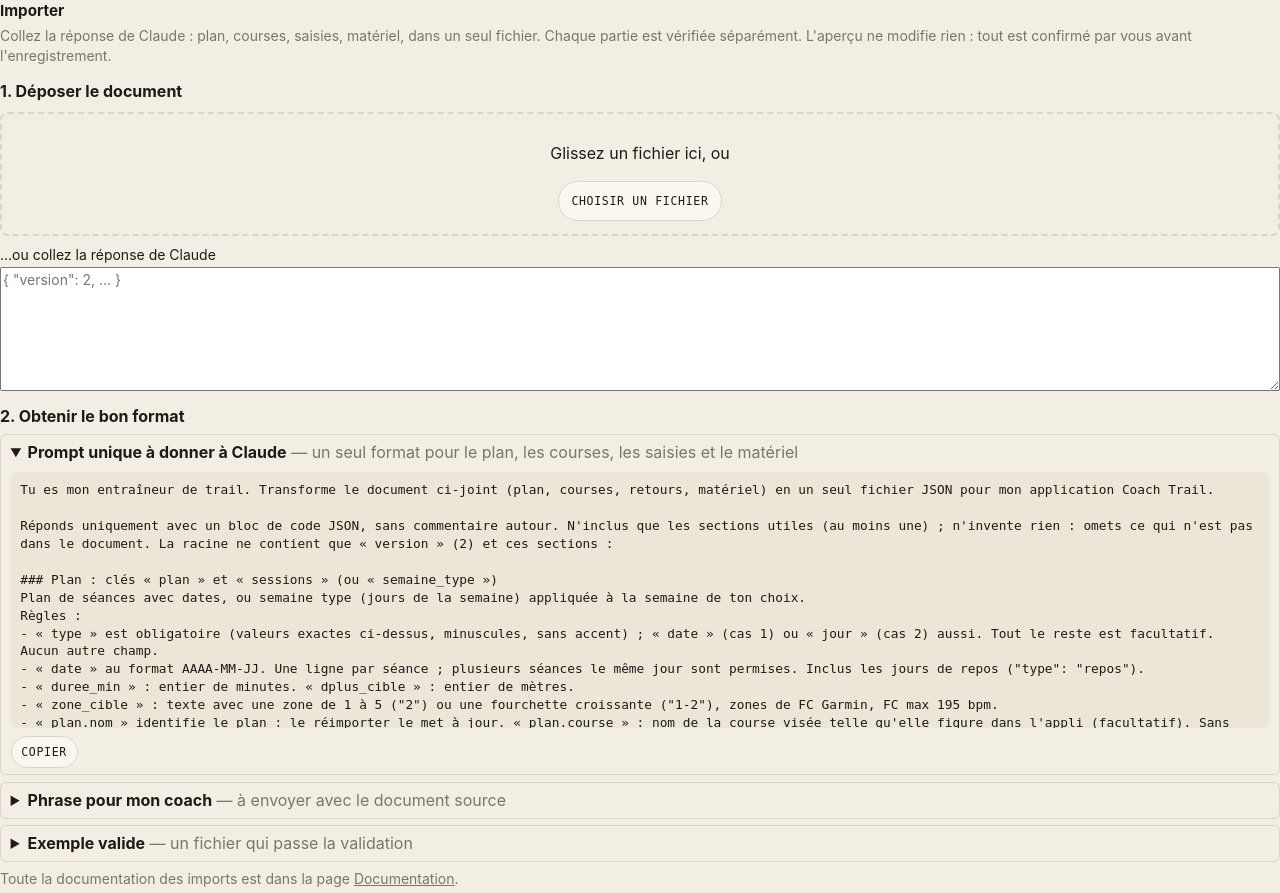
Test case: Page Importer › plan déjà à jour : rien à confirmer
Click the text box labelled "…ou collez la réponse de Claude". click: (640, 329)
box: [0,267,1279,391]
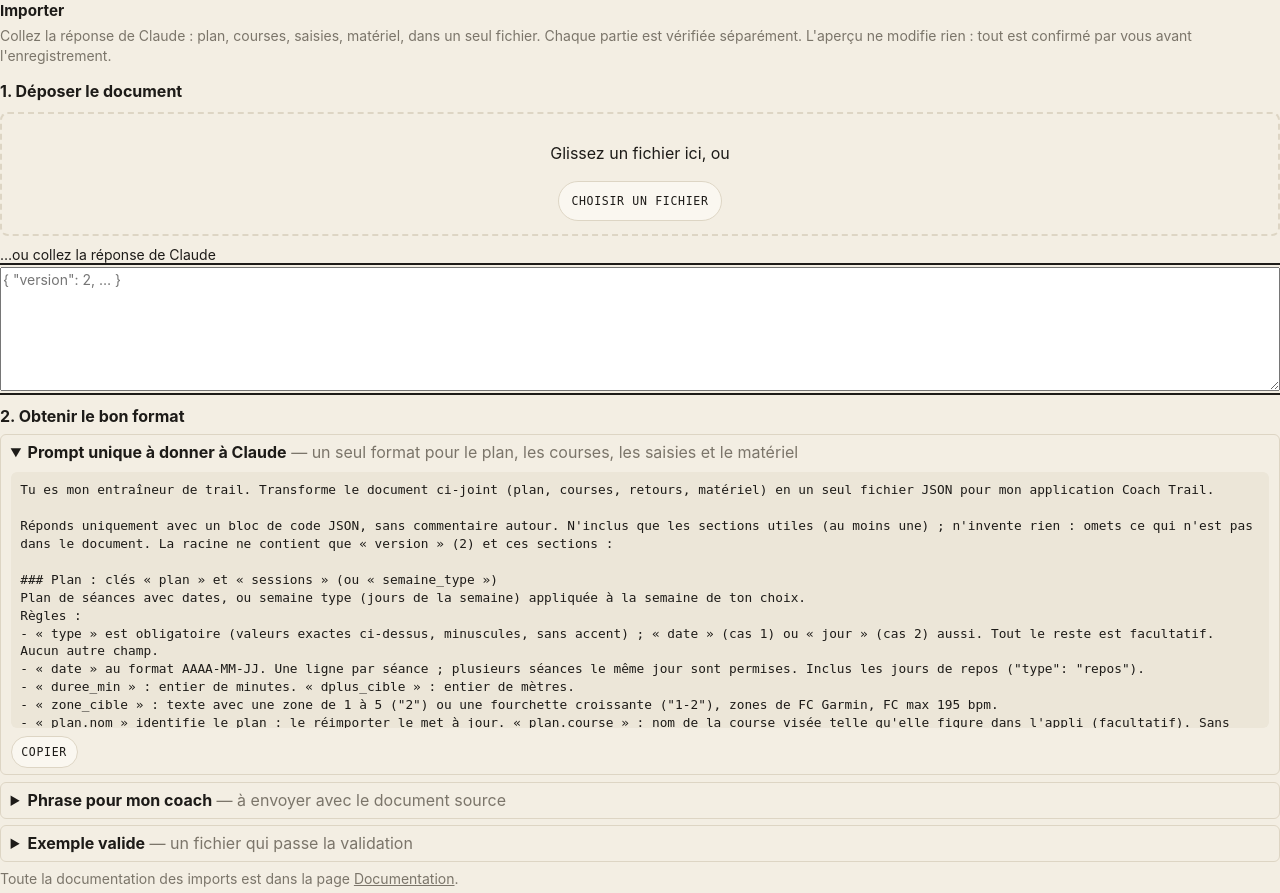
Type keys "{\"sessions\":[{\"date\":\"2026-11-03\",\"type\":\"footing\"}]}"
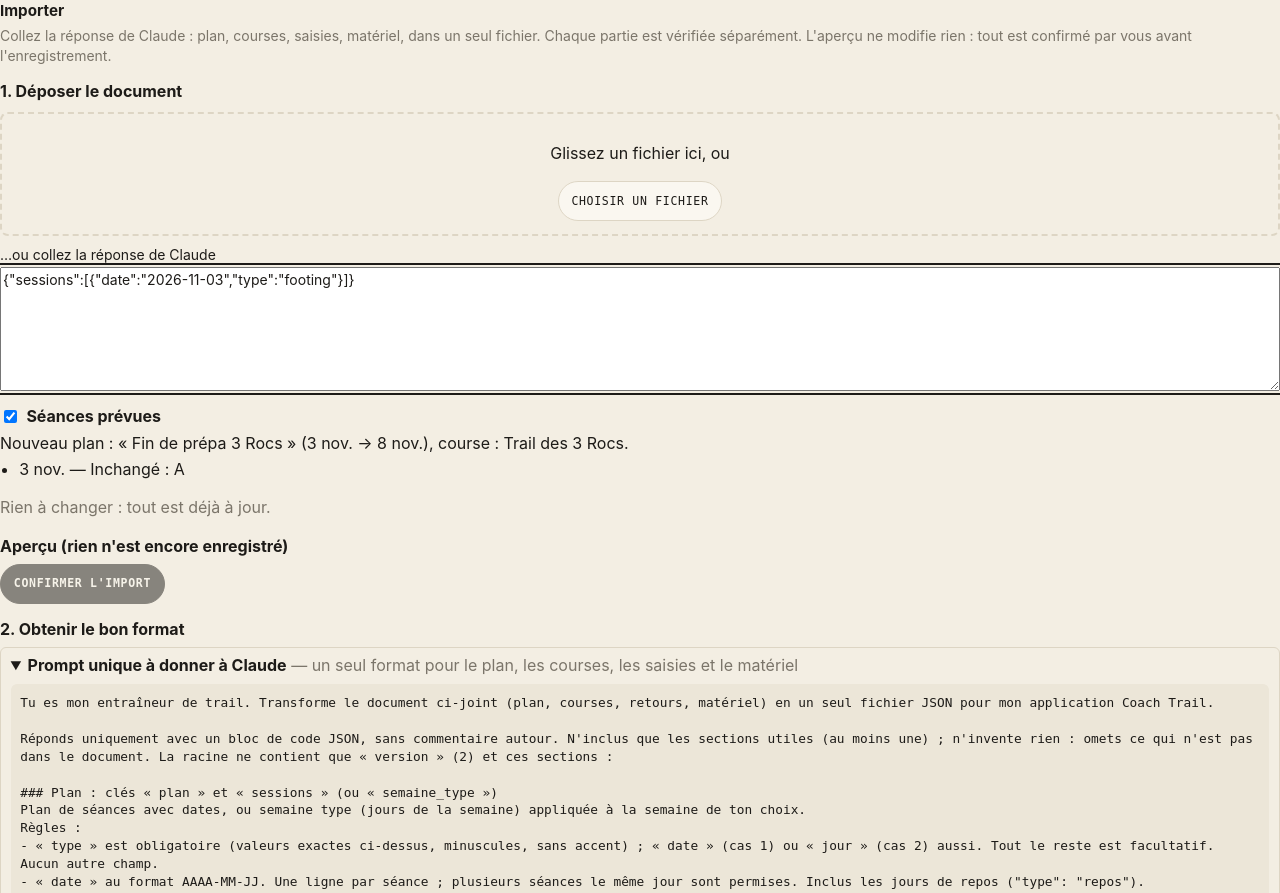
Now the text "Rien à changer : tout est déjà à jour." is shown, box [0,497,271,517]
Now the button "Confirmer l'import" is disabled, box [0,564,165,604]
